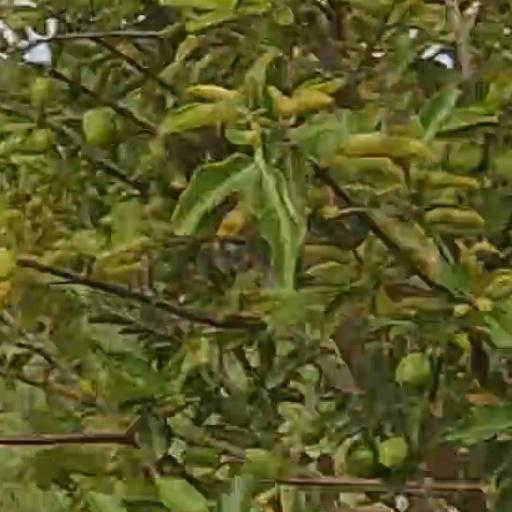acerola: (82, 105, 121, 146), (400, 355, 424, 386)
